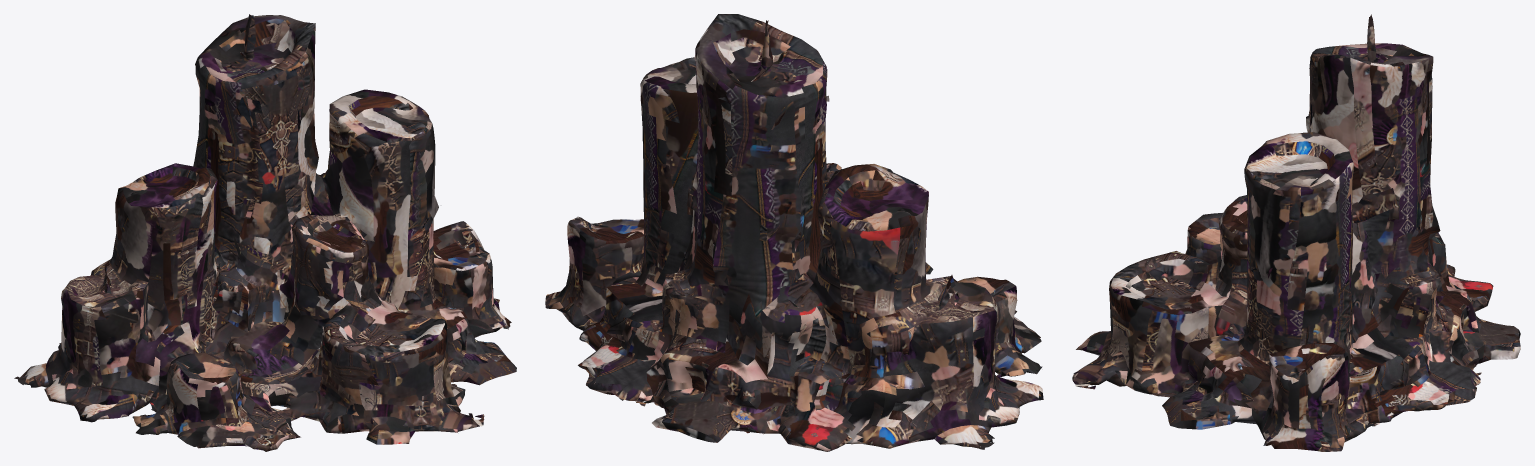
3 views of the same model, side by side, from view 1: azimuth 30°, elevation 25°; view 2: azimuth 150°, elevation 25°; view 3: azimuth 270°, elevation 25° (orthographic). The views are drawn at different scales.
Parts seen in each view (by area): view 1: tripo_node_51ce73fa; view 2: tripo_node_51ce73fa; view 3: tripo_node_51ce73fa.
Part boxes in pixels (x1,y1,x2,y2): tripo_node_51ce73fa: (14, 14, 516, 451); tripo_node_51ce73fa: (545, 14, 1043, 451); tripo_node_51ce73fa: (1072, 14, 1520, 451).
Bounding box in the file's own units: 0.9753 × 0.6902 × 0.8479.
